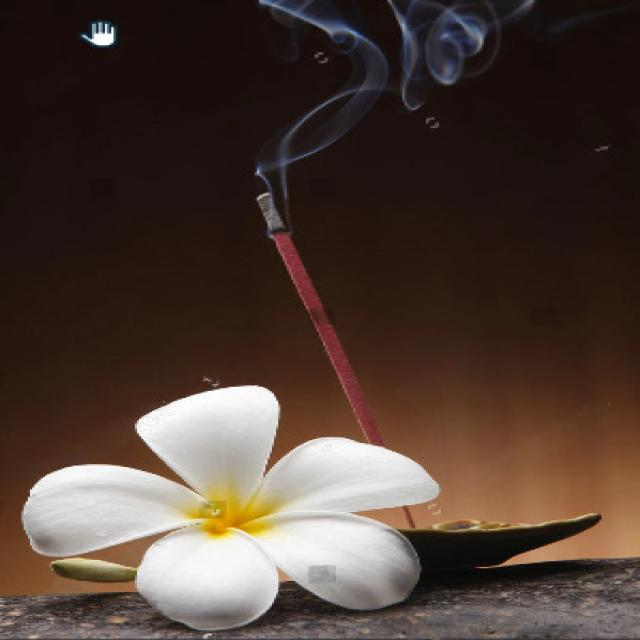Agarbatti: (255, 179, 439, 516)
